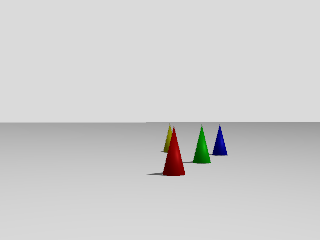blue: (212, 124, 227, 156)
green: (193, 125, 211, 164)
red: (163, 126, 186, 178)
yellow: (161, 123, 173, 153)
